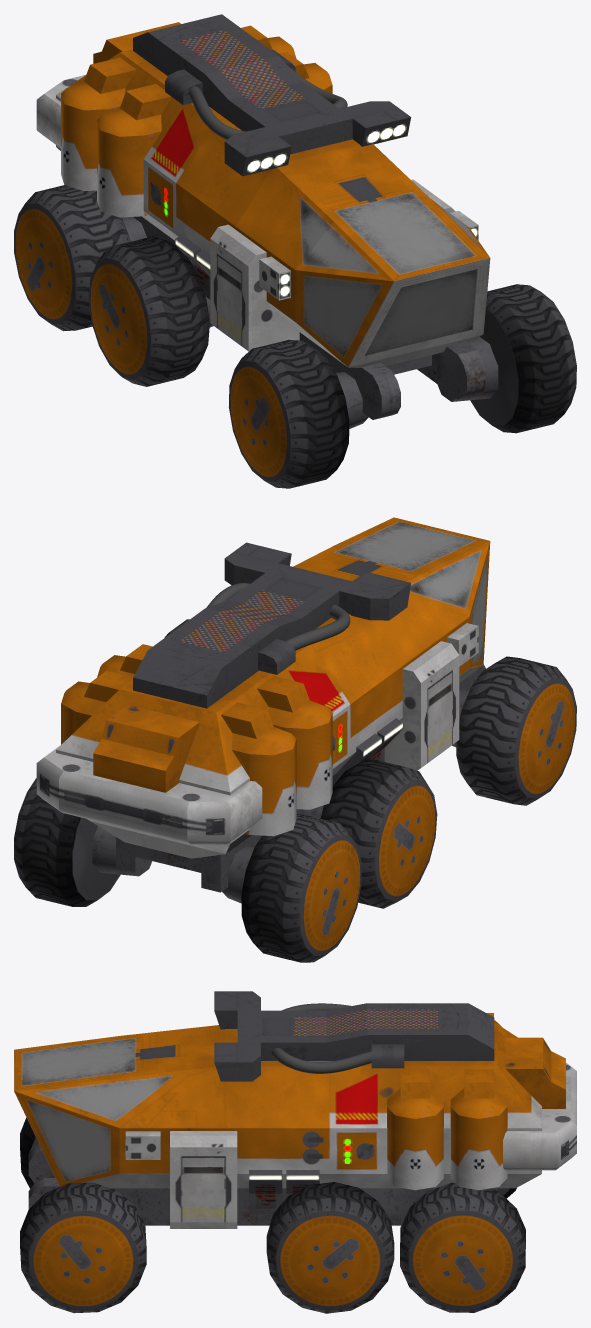
File: rover.glb
3 renders of one model, top to bottom at view 1: azimuth 30°, elevation 25°; view 2: azimuth 150°, elevation 25°; view 3: azimuth 270°, elevation 25°, orthographic. The views are drawn at different scales.
Parts seen in each view (by area): view 1: Rover_Body, Rover_wheel_1, Rover_wheel_2, Rover_wheel_3; view 2: Rover_Body, Rover_wheel_3, Rover_wheel_1, Rover_wheel_2; view 3: Rover_Body, Rover_wheel_1, Rover_wheel_2, Rover_wheel_3.
Boxes of the visible parts, bbox=[...] form: Rover_Body: bbox=[36, 14, 490, 419]; Rover_wheel_1: bbox=[229, 284, 576, 488]; Rover_wheel_2: bbox=[88, 236, 209, 386]; Rover_wheel_3: bbox=[14, 185, 130, 331]; Rover_Body: bbox=[36, 517, 490, 903]; Rover_wheel_3: bbox=[14, 778, 361, 962]; Rover_wheel_1: bbox=[452, 656, 576, 805]; Rover_wheel_2: bbox=[320, 758, 437, 908]; Rover_Body: bbox=[14, 991, 576, 1228]; Rover_wheel_1: bbox=[20, 1117, 146, 1313]; Rover_wheel_2: bbox=[266, 1182, 394, 1313]; Rover_wheel_3: bbox=[400, 1182, 525, 1312].
Bounding box in the file's own units: 3.39 × 2.95 × 6.34.
Materials: 1 (1 with a texture image).
